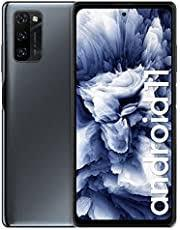Smartphone: (76, 5, 176, 230), (5, 4, 77, 230)
